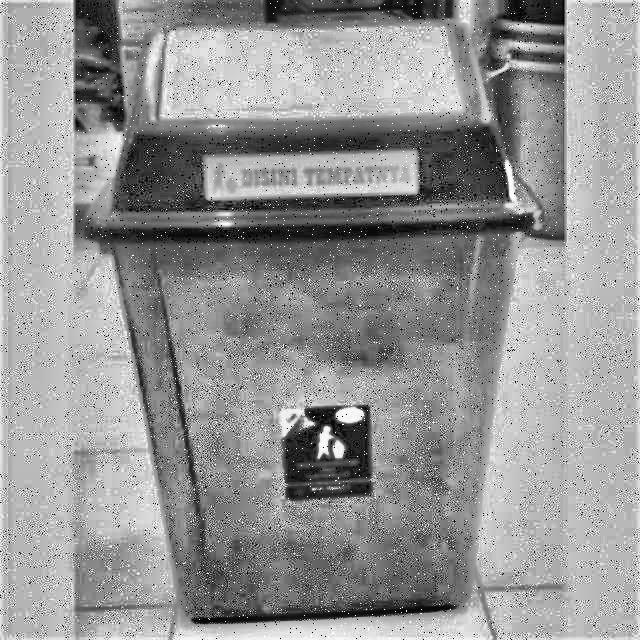Dustbin: (72, 5, 604, 622)
